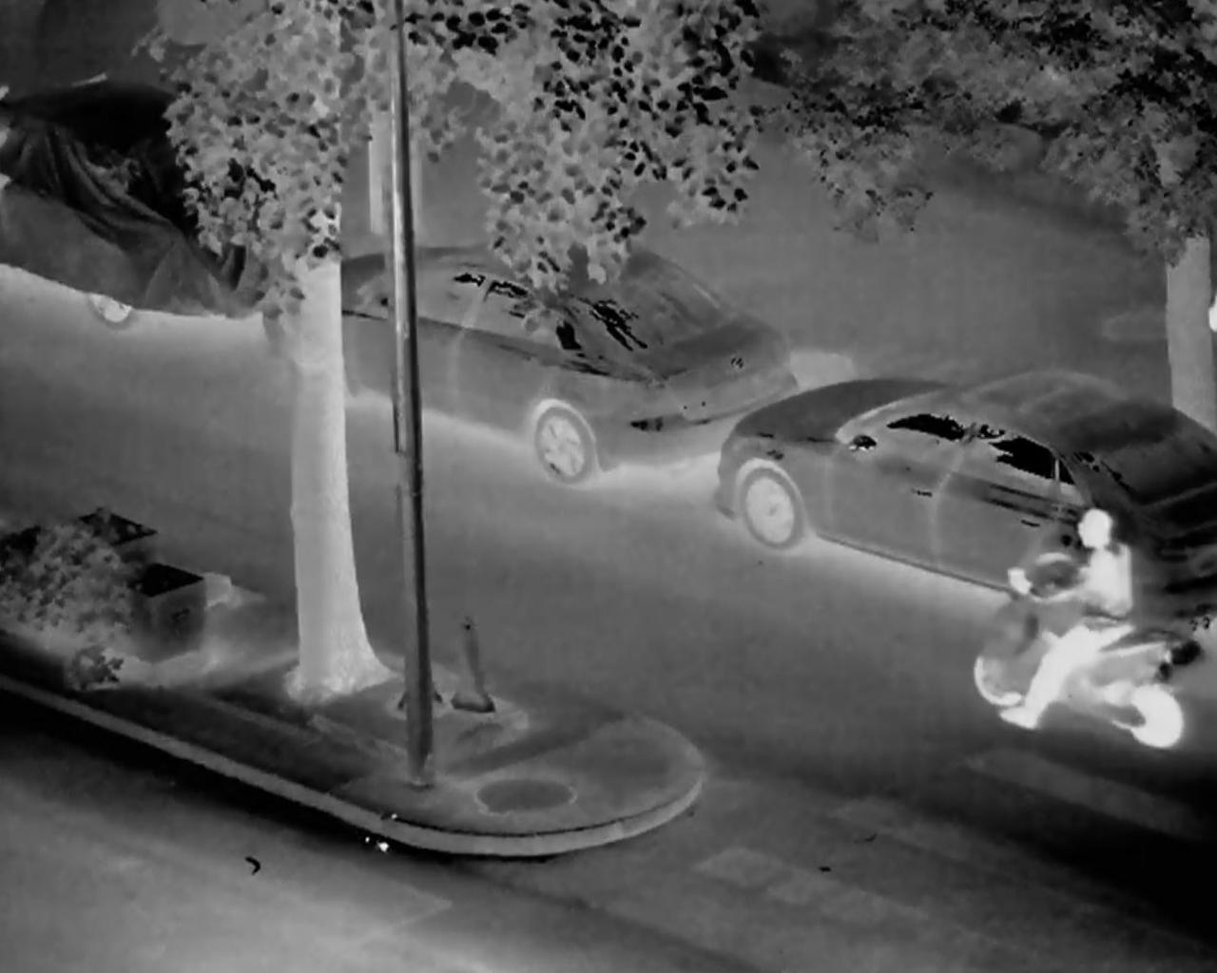person: (1007, 503, 1147, 751)
